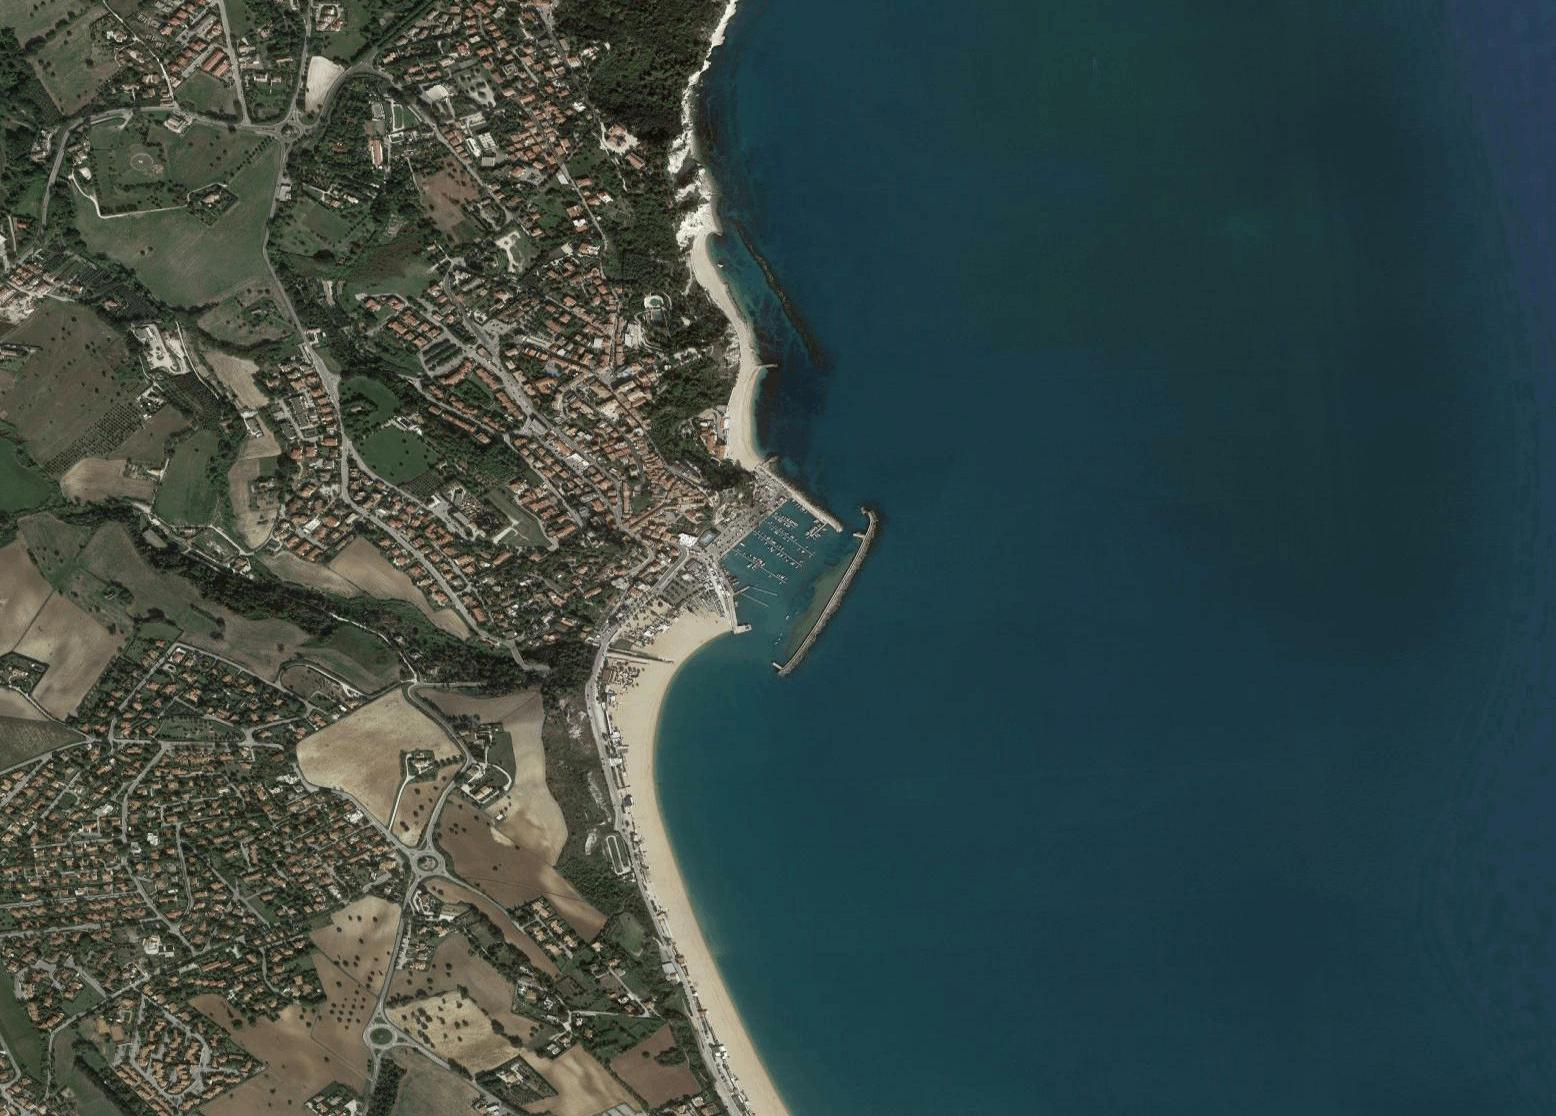harbor: (695, 472, 881, 682)
